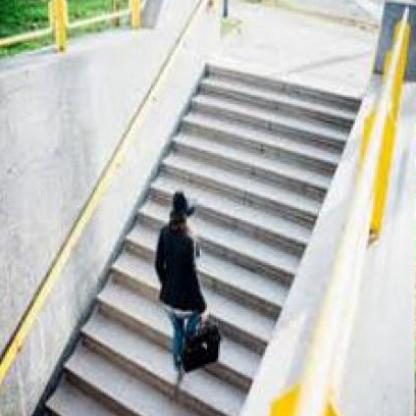stair_up: (166, 95, 321, 237)
